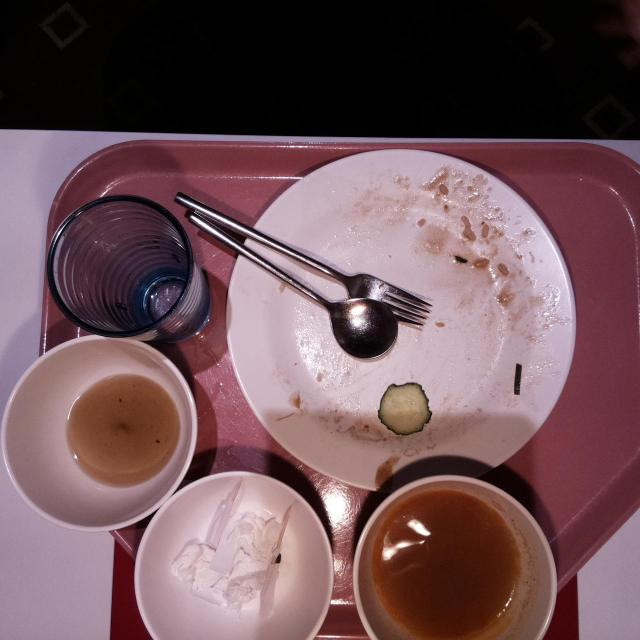Vegetable: (379, 379, 431, 436)
